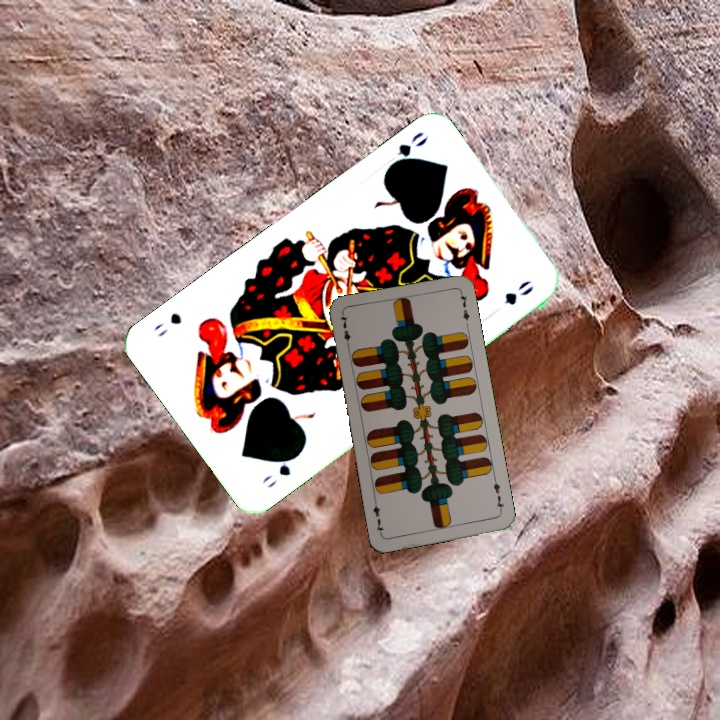E7: (489, 475, 506, 515), (336, 311, 353, 351)
GO: (382, 127, 431, 174), (257, 449, 303, 491)
